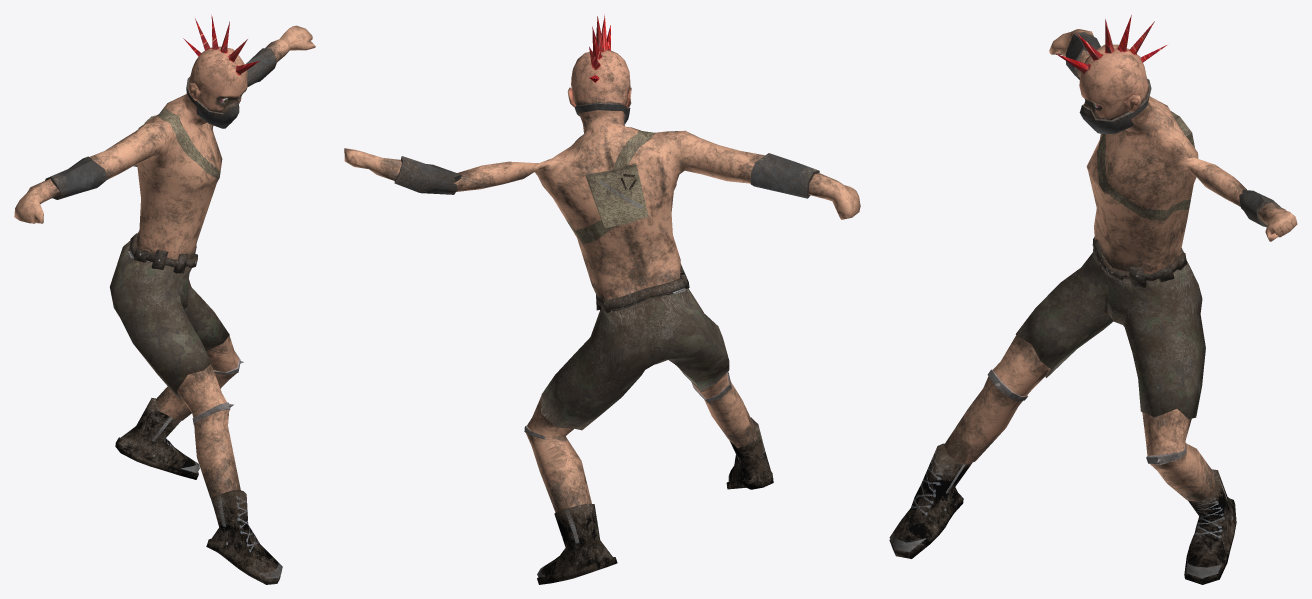
File: Anim_arma_c_npc2.0027.obj
3 views of the same model, side by side, from view 1: azimuth 30°, elevation 25°; view 2: azimuth 150°, elevation 25°; view 3: azimuth 270°, elevation 25° (orthographic). The views are drawn at different scales.
Parts seen in each view (by area): view 1: polySurface1; view 2: polySurface1; view 3: polySurface1.
Boxes of the visible parts, x1,y1,x2,y2 form: polySurface1: (14,14,315,584); polySurface1: (344,14,860,584); polySurface1: (889,15,1297,584).
Size of the model in its own units: 7.66 by 9.36 by 6.15.
